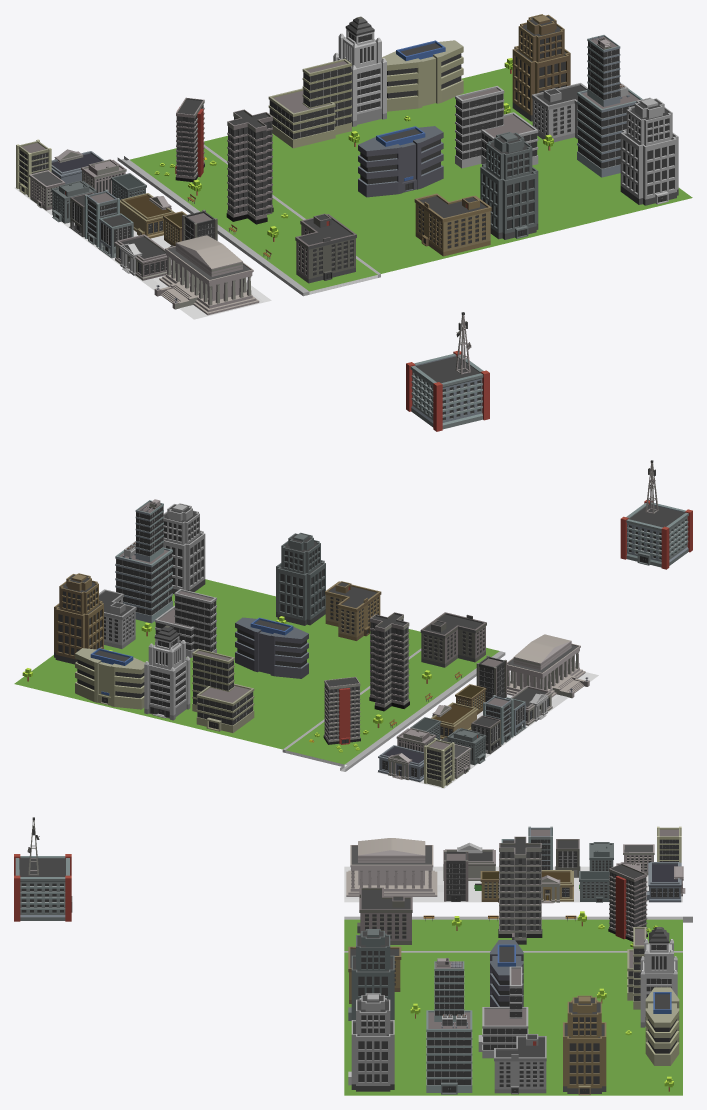
File: Metropolis 1_hub.FBX
The picture shows the model from 3 angles, top to bottom: view 1: azimuth 30°, elevation 25°; view 2: azimuth 150°, elevation 25°; view 3: azimuth 270°, elevation 25°; orthographic projection. The views are drawn at different scales.
Visible parts, largest first — view 1: road_square_mesh (5), grass, SC_Bld_07_Bright, SC_Bld_12_Bright, SC_Bld_LicolnMemorial, SC_Bld_22_Bright, SC_Bld_08_Brown, SC_Bld_22_Dark, SC_Bld_21_Dark, SC_Bld_01_Dark, SC_Bld_21_Brown, SC_Bld_22_Brown (+18 smaller); view 2: road_square_mesh (5), grass, SC_Bld_07_Bright, SC_Bld_12_Bright, SC_Bld_22_Dark, SC_Bld_08_Brown, SC_Bld_21_Dark, SC_Bld_LicolnMemorial, SC_Bld_01_Dark, SC_Bld_21_Brown, SC_Bld_22_Brown, SC_Bld_24_Bright (+17 smaller); view 3: road_square_mesh (5), grass, SC_Bld_07_Bright, SC_Bld_LicolnMemorial, SC_Bld_01_Dark, SC_Bld_22_Bright, SC_Bld_22_Brown, SC_Bld_12_Bright, SC_Bld_22_Dark, SC_Bld_15_Bright, SC_Bld_05_Dark, SC_Bld_08_Bright (+18 smaller).
Part boxes in pixels (left/top/right/bottom): road_square_mesh (5): left=204, top=68, right=692, bottom=273; grass: left=117, top=144, right=380, bottom=296; SC_Bld_07_Bright: left=577, top=35, right=642, bottom=177; SC_Bld_12_Bright: left=406, top=312, right=489, bottom=431; SC_Bld_LicolnMemorial: left=154, top=235, right=259, bottom=315; SC_Bld_22_Bright: left=620, top=97, right=678, bottom=205; SC_Bld_08_Brown: left=268, top=58, right=351, bottom=148; SC_Bld_22_Dark: left=480, top=132, right=538, bottom=239; SC_Bld_21_Dark: left=358, top=126, right=443, bottom=197; SC_Bld_01_Dark: left=226, top=109, right=273, bottom=224; SC_Bld_21_Brown: left=382, top=40, right=463, bottom=111; SC_Bld_22_Brown: left=512, top=14, right=570, bottom=121; road_square_mesh (5): left=14, top=579, right=421, bottom=749; grass: left=282, top=647, right=505, bottom=771; SC_Bld_07_Bright: left=115, top=499, right=172, bottom=623; SC_Bld_12_Bright: left=620, top=460, right=692, bottom=569; SC_Bld_22_Dark: left=276, top=532, right=325, bottom=625; SC_Bld_08_Brown: left=192, top=648, right=254, bottom=732; SC_Bld_21_Dark: left=235, top=617, right=308, bottom=678; SC_Bld_LicolnMemorial: left=507, top=634, right=589, bottom=698; SC_Bld_01_Dark: left=369, top=612, right=409, bottom=711; SC_Bld_21_Brown: left=75, top=648, right=144, bottom=709; SC_Bld_22_Brown: left=54, top=573, right=103, bottom=664; SC_Bld_24_Bright: left=144, top=625, right=190, bottom=720; road_square_mesh (5): left=344, top=952, right=682, bottom=1095; grass: left=344, top=916, right=692, bottom=952; SC_Bld_07_Bright: left=426, top=958, right=472, bottom=1094; SC_Bld_LicolnMemorial: left=346, top=838, right=437, bottom=896; SC_Bld_01_Dark: left=498, top=836, right=542, bottom=944; SC_Bld_22_Bright: left=348, top=993, right=394, bottom=1091; SC_Bld_22_Brown: left=563, top=995, right=606, bottom=1095; SC_Bld_12_Bright: left=14, top=817, right=72, bottom=921; SC_Bld_22_Dark: left=348, top=929, right=394, bottom=1020; SC_Bld_15_Bright: left=494, top=1034, right=546, bottom=1094; SC_Bld_05_Dark: left=608, top=863, right=647, bottom=941; SC_Bld_08_Bright: left=478, top=966, right=528, bottom=1058.
Bounding box in the file's own units: 161276 × 40069 × 200614.
9 materials, 7 textured.
